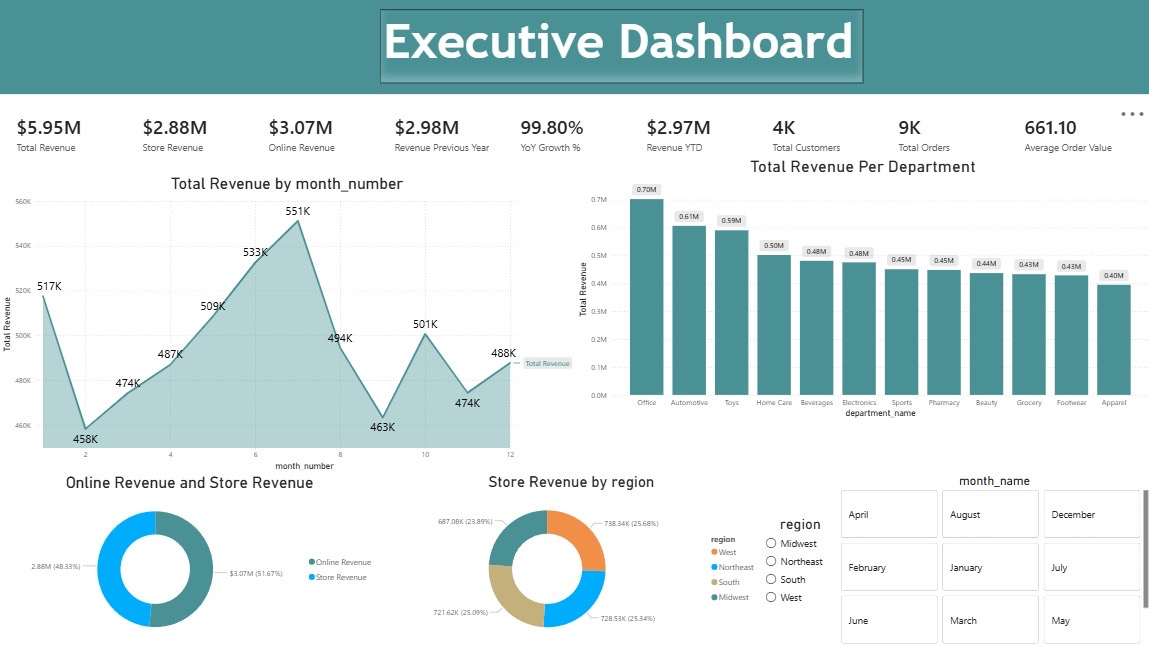

This screenshot's page, from the dashboard's own definition file:
{"tool":"powerbi","page":{"name":"Executive Dashboard","canvas":[1920,1080],"ordinal":0},"visuals":[{"type":"cardVisual","fields":{"Data":["Measures (2).Total Revenue","Measures (2).Store Revenue","Measures (2).Online Revenue","Measures (2).Revenue Previous Year","Measures (2).YoY Growth %","Measures (2).Revenue YTD","Measures (2).Total Customers","Measures (2).Total Orders","Measures (2).Average Order Value"]},"box":[0,97.5,1920,252.5],"z":0},{"type":"lineChart","fields":{"Y":["Measures (2).Total Revenue"],"Category":["gold dim_date.month_number"]},"box":[0,292.5,960,497.5],"z":1000},{"type":"donutChart","fields":{"Y":["Measures (2).Online Revenue","Measures (2).Store Revenue"]},"box":[0,790,635,290],"z":2000},{"type":"shape","box":[0,0,1920,160],"z":3000},{"type":"advancedSlicerVisual","fields":{"Values":["gold dim_date.month_name"]},"box":[1396.7,790,523.3,290],"z":4000},{"type":"textbox","box":[635,17.5,805,122.5],"z":5000},{"type":"donutChart","fields":{"Category":["gold dim_store.region"],"Y":["Measures (2).Store Revenue"]},"box":[635,790,637.5,290],"z":6000},{"type":"columnChart","title":"Total Revenue Per Department","fields":{"Category":["gold dim_product.department_name"],"Y":["Measures (2).Total Revenue"]},"box":[960,262.5,960,440],"z":7000},{"type":"listSlicer","fields":{"Values":["gold dim_store.region"]},"box":[1272,860,126,182],"z":8000}]}

Visuals, with their boxes in screenshot pixels (x1, y1, x2, y2), scaled from the page's 1920x1080 canvas onto the 1149x646 screenshot:
cardVisual - Measures (2).Total Revenue x Measures (2).Store Revenue: 0,58,1148,209
lineChart - Measures (2).Total Revenue x gold dim_date.month_number: 0,175,574,473
donutChart - Measures (2).Online Revenue x Measures (2).Store Revenue: 0,473,380,645
shape: 0,0,1148,96
advancedSlicerVisual - gold dim_date.month_name: 836,473,1148,645
textbox: 380,10,862,84
donutChart - gold dim_store.region x Measures (2).Store Revenue: 380,473,762,645
"Total Revenue Per Department" columnChart: 574,157,1148,420
listSlicer - gold dim_store.region: 761,514,837,623
